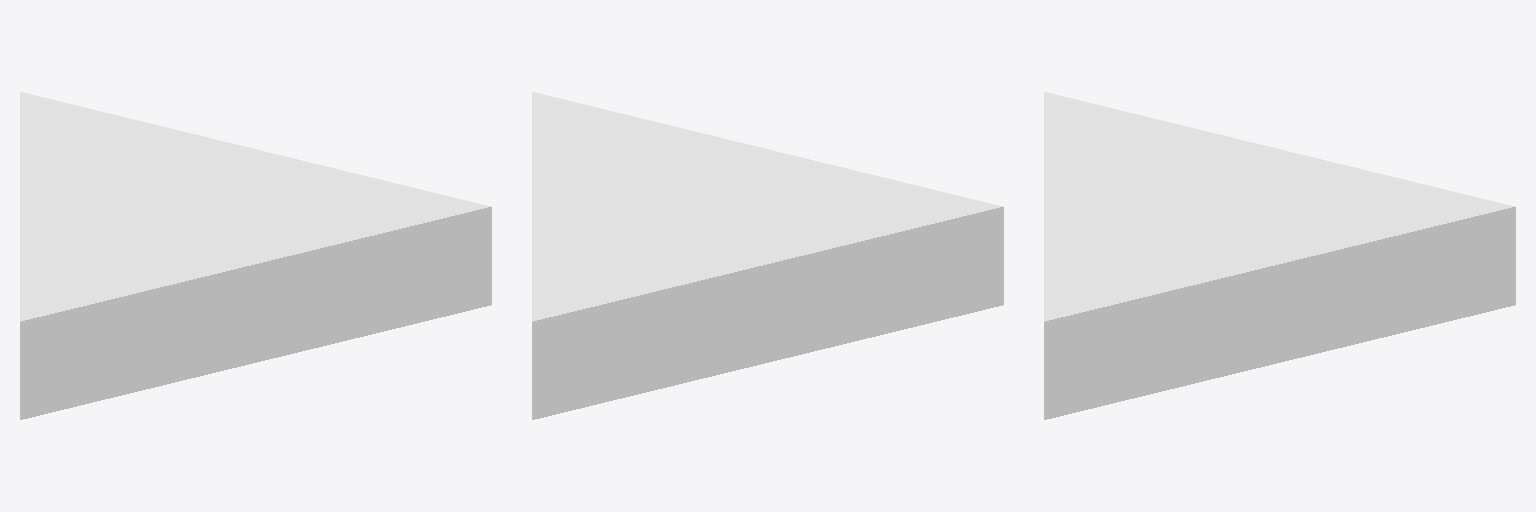
robot.urdf — Prism:
<?xml version="1.0" encoding="utf-8"?>
<!-- This URDF was automatically created by SolidWorks to URDF Exporter! Originally created by [author] ([email redacted]) 
     Commit Version: 1.6.0-1-g15f4949  Build Version: 1.6.7594.29634
     For more information, please see http://wiki.ros.org/sw_urdf_exporter -->
<robot
  name="Prism">
  <link
    name="base_link">
    <inertial>
      <origin
        xyz="0.25 0.05 -0.14434"
        rpy="0 0 0" />
      <mass
        value="10.825" />
      <inertia
        ixx="0.12178"
        ixy="2.3474E-18"
        ixz="-5.5738E-16"
        iyy="0.22553"
        iyz="-5.4753E-18"
        izz="0.12178" />
    </inertial>
    <visual>
      <origin
        xyz="0 0 0"
        rpy="0 0 0" />
      <geometry>
        <mesh
          filename="package://Prism/meshes/base_link.STL" />
      </geometry>
      <material
        name="">
        <color
          rgba="1 1 1 1" />
      </material>
    </visual>
    <collision>
      <origin
        xyz="0 0 0"
        rpy="0 0 0" />
      <geometry>
        <mesh
          filename="package://Prism/meshes/base_link.STL" />
      </geometry>
    </collision>
  </link>
</robot>

--- Facts derived from the render (not from the file) ---
Views: 3 orthographic renders of the robot side by side, from view 1: azimuth 30°, elevation 25°; view 2: azimuth 150°, elevation 25°; view 3: azimuth 270°, elevation 25°.
Model Prism with 1 links and 0 joints (none), rooted at base_link, posed all joints at 0.
Visible links, largest first — view 1: base_link; view 2: base_link; view 3: base_link.
Boxes of the visible links, x1=… form: base_link: x1=20, y1=92, x2=491, y2=419; base_link: x1=532, y1=92, x2=1003, y2=419; base_link: x1=1044, y1=92, x2=1515, y2=419.
Size in the robot's own frame: 0.5 by 0.433 by 0.1 metres.
1 mesh visuals loaded from 1 distinct referenced files (1 binary STL).